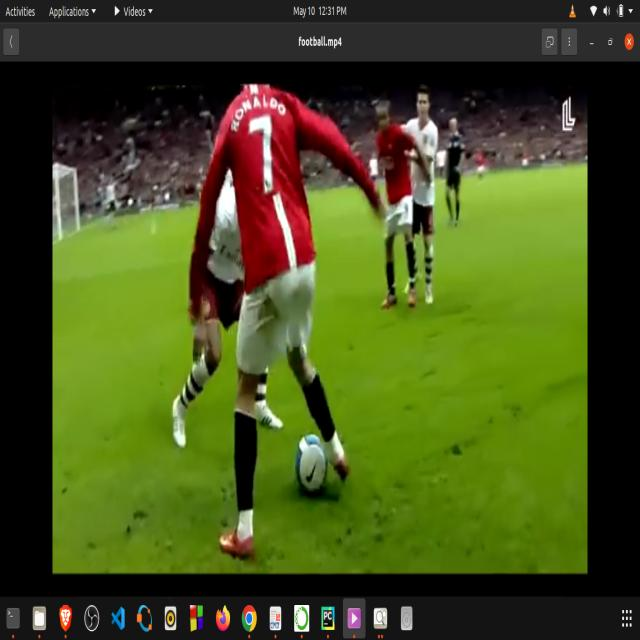Ball: (289, 424, 335, 502)
Refree: (438, 108, 470, 232)
football-players: (199, 81, 367, 558), (164, 149, 290, 459), (366, 85, 422, 318), (370, 98, 428, 318), (405, 89, 438, 320)
